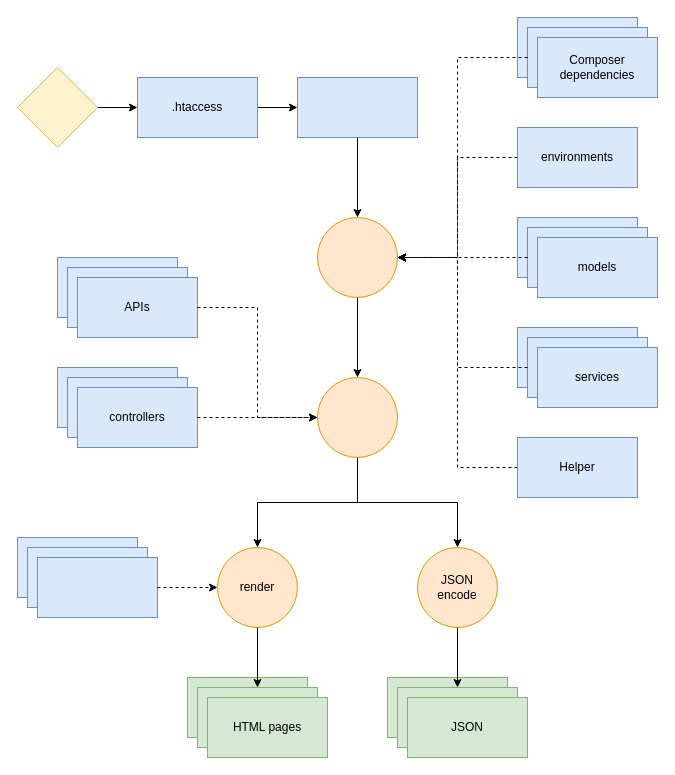
The diagram is 675 pixels wide and 775 high, and some of its shapes have lost their labels. Here are the shapes that lost their labels. From the top down, the centre of each, then its label:
the point at 57,107: request
the point at 357,107: index.php
the point at 357,257: autoload
the point at 357,417: route
the point at 97,587: views
